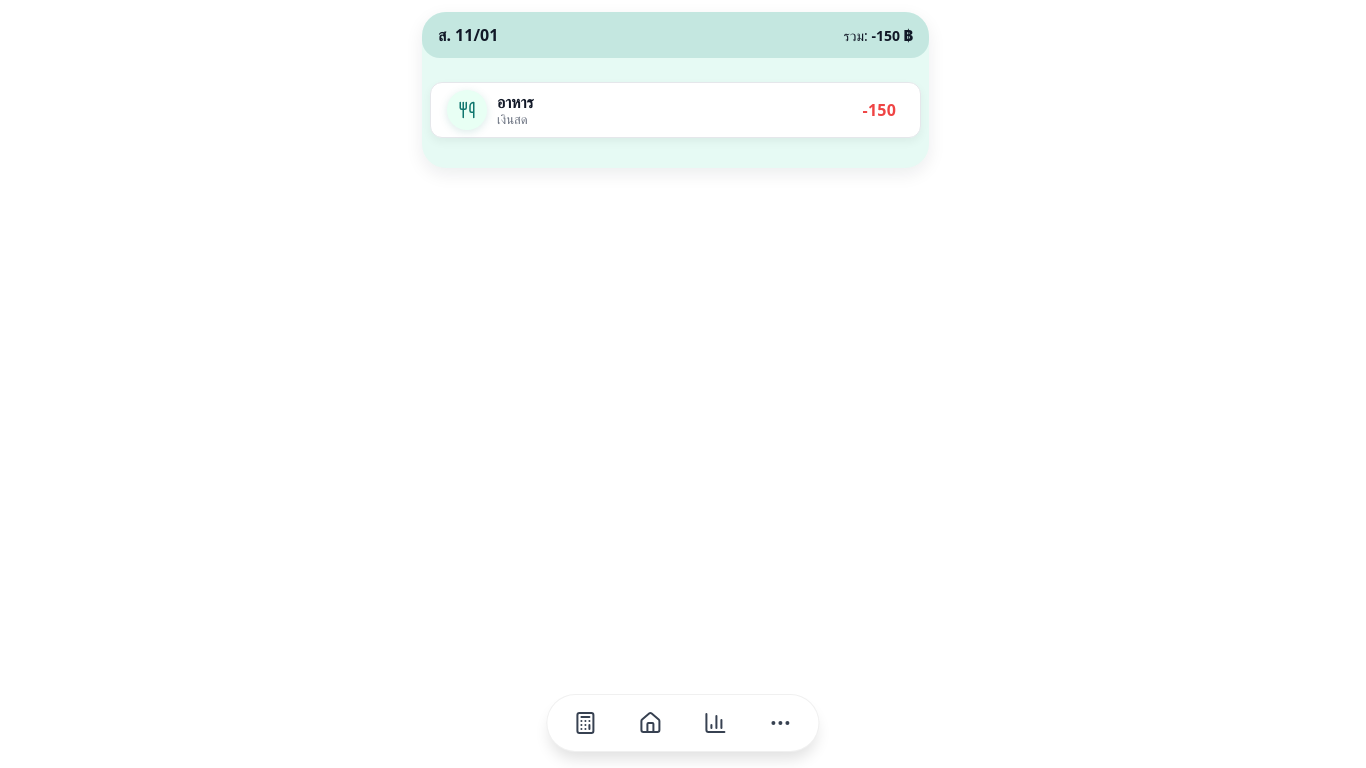
it: Summary Page › คลิก row แล้วเปิด detail overlay
Check: the text "อาหาร" is shown, box [497,91,534,113]
Click the text "อาหาร". click: click(676, 110)
box: [430,82,921,138]
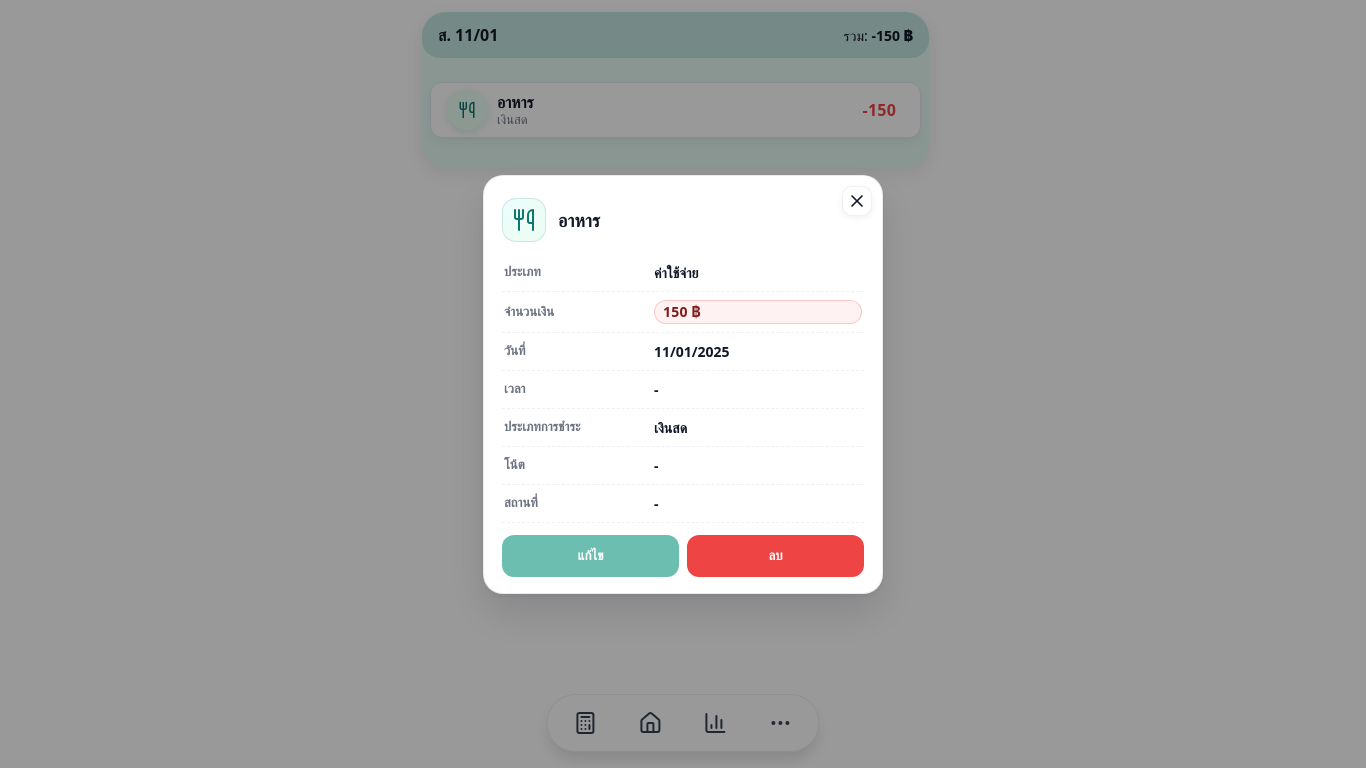
Check: the dialog is shown, box [483,174,883,594]
